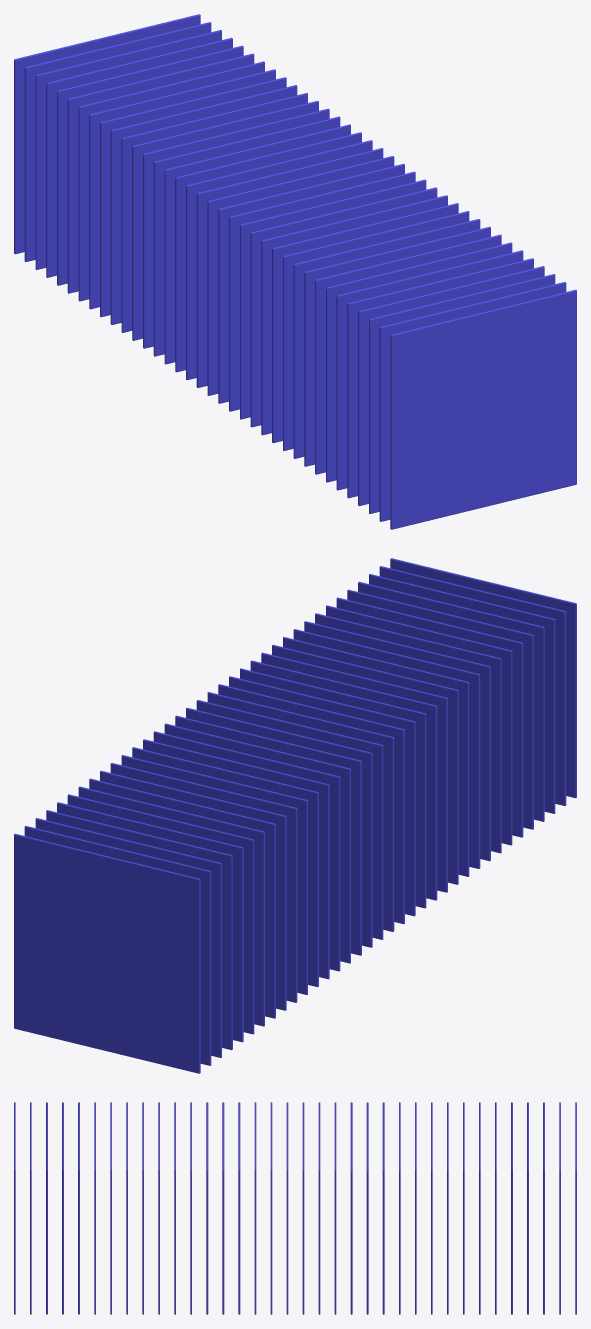
Rendered from banner_panel.glb.
The picture shows the model from 3 angles, top to bottom: view 1: azimuth 30°, elevation 25°; view 2: azimuth 150°, elevation 25°; view 3: azimuth 270°, elevation 25°; orthographic projection. The views are drawn at different scales.
Visible parts, largest first — view 1: panel_r; view 2: panel_r; view 3: panel_r.
Part boxes in pixels (x1,y1,x2,y2): panel_r: (14,14,576,529); panel_r: (14,558,576,1073); panel_r: (14,1102,576,1314).
Size of the model in its own units: 2 by 2 by 7.02.
